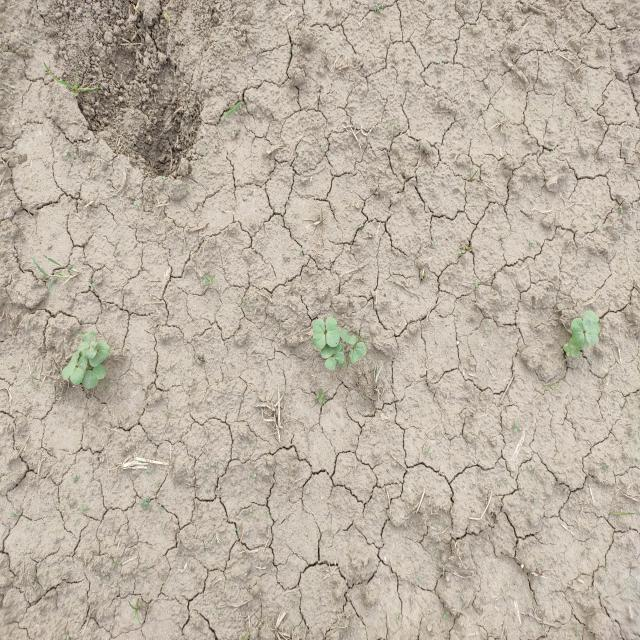seedling_s2: (82, 364, 106, 389), (61, 350, 80, 380), (89, 340, 110, 367), (70, 356, 88, 385), (78, 332, 98, 356), (583, 316, 598, 346), (326, 317, 340, 347), (349, 342, 367, 365), (583, 310, 600, 334), (571, 318, 585, 347), (312, 318, 325, 349), (325, 352, 344, 370), (321, 343, 342, 358), (339, 329, 356, 345), (569, 337, 579, 358), (86, 342, 98, 359)
